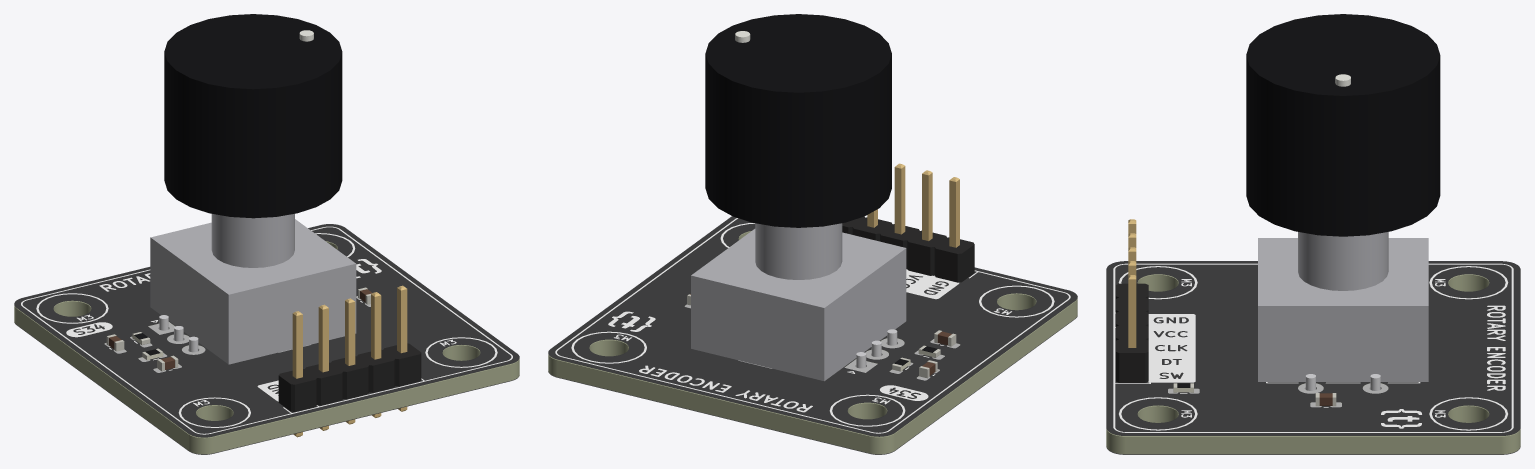
3 renders of one model, left to right at view 1: azimuth 30°, elevation 25°; view 2: azimuth 150°, elevation 25°; view 3: azimuth 270°, elevation 25°, orthographic. The views are drawn at different scales.
Parts seen in each view (by area): view 1: Enc_EC11E_Knob_3, =>[0:1:1:9], Enc_EC11E_Knob_0, =>[0:1:1:11], J1, Enc_EC11E_Knob_1, =>[0:1:1:7], =>[0:1:1:6], =>[0:1:1:10]; view 2: Enc_EC11E_Knob_3, =>[0:1:1:9], Enc_EC11E_Knob_0, =>[0:1:1:11], J1, =>[0:1:1:7], Enc_EC11E_Knob_1, =>[0:1:1:6], =>[0:1:1:10], Enc_EC11E_Knob_5; view 3: =>[0:1:1:9], Enc_EC11E_Knob_3, Enc_EC11E_Knob_0, =>[0:1:1:11], =>[0:1:1:7], Enc_EC11E_Knob_1, J1, =>[0:1:1:6], =>[0:1:1:10].
Part boxes in pixels (<box>): Enc_EC11E_Knob_3: <box>164,14,342,218</box>; =>[0:1:1:9]: <box>14,224,519,437</box>; Enc_EC11E_Knob_0: <box>150,219,356,364</box>; =>[0:1:1:11]: <box>14,241,519,454</box>; J1: <box>278,285,421,437</box>; Enc_EC11E_Knob_1: <box>211,213,294,267</box>; =>[0:1:1:7]: <box>21,226,512,434</box>; =>[0:1:1:6]: <box>104,296,370,372</box>; =>[0:1:1:10]: <box>14,322,519,454</box>; Enc_EC11E_Knob_3: <box>705,14,891,227</box>; =>[0:1:1:9]: <box>548,216,1077,436</box>; Enc_EC11E_Knob_0: <box>691,229,906,381</box>; =>[0:1:1:11]: <box>548,231,1077,454</box>; J1: <box>842,163,974,282</box>; =>[0:1:1:7]: <box>555,218,1070,433</box>; Enc_EC11E_Knob_1: <box>755,223,842,279</box>; =>[0:1:1:6]: <box>684,304,959,380</box>; =>[0:1:1:10]: <box>548,316,1077,454</box>; Enc_EC11E_Knob_5: <box>856,329,897,368</box>; =>[0:1:1:9]: <box>1106,261,1520,435</box>; Enc_EC11E_Knob_3: <box>1246,14,1440,236</box>; Enc_EC11E_Knob_0: <box>1258,238,1428,381</box>; =>[0:1:1:11]: <box>1106,274,1520,454</box>; =>[0:1:1:7]: <box>1113,263,1513,432</box>; Enc_EC11E_Knob_1: <box>1298,232,1388,290</box>; J1: <box>1116,219,1148,382</box>; =>[0:1:1:6]: <box>1168,383,1388,407</box>; =>[0:1:1:10]: <box>1106,446,1520,454</box>.
Size of the model in its own units: 0.032 by 0.029 by 0.032.
